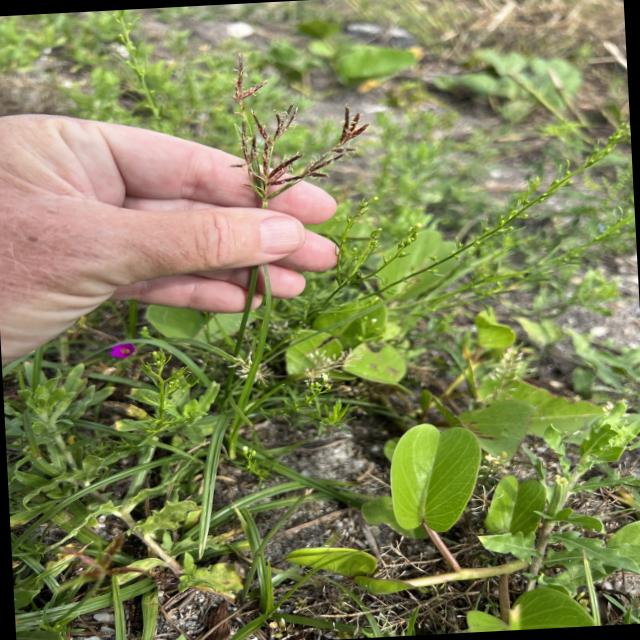cyperus: (219, 44, 384, 208)
